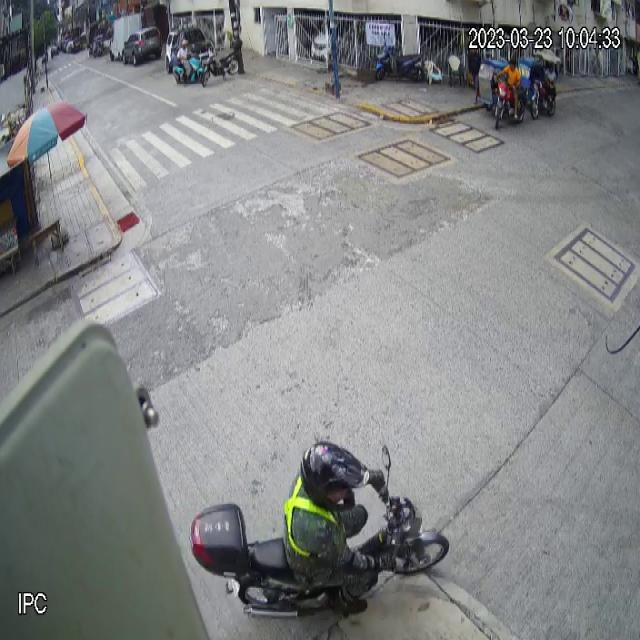Motorcycle: (188, 441, 454, 628)
